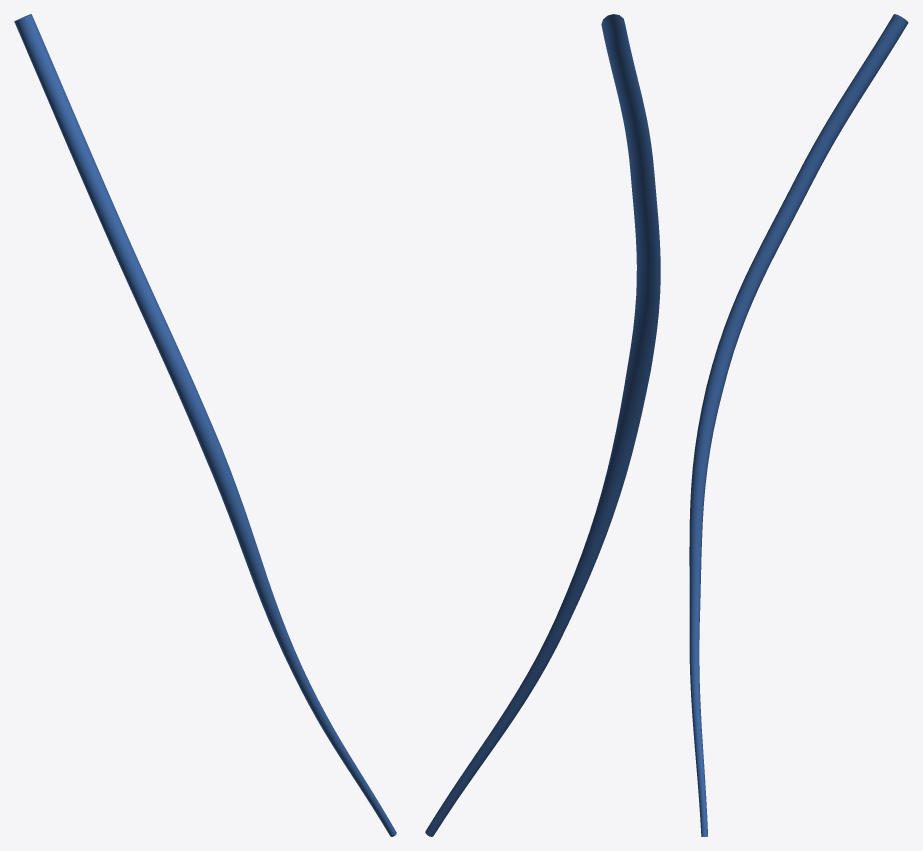
3 renders of one model, left to right at view 1: azimuth 30°, elevation 25°; view 2: azimuth 150°, elevation 25°; view 3: azimuth 270°, elevation 25°, orthographic. The views are drawn at different scales.
Parts seen in each view (by area): view 1: 右侧舌静脉; view 2: 右侧舌静脉; view 3: 右侧舌静脉.
Boxes of the visible parts, x1,y1,x2,y2 form: 右侧舌静脉: [14, 14, 396, 836]; 右侧舌静脉: [425, 14, 660, 836]; 右侧舌静脉: [689, 14, 908, 836].
Bounding box in the file's own units: 0.0238 × 0.0678 × 0.0189.
